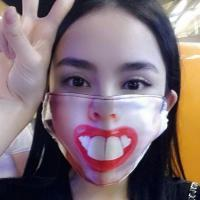face_mask: (49, 18, 164, 182)
